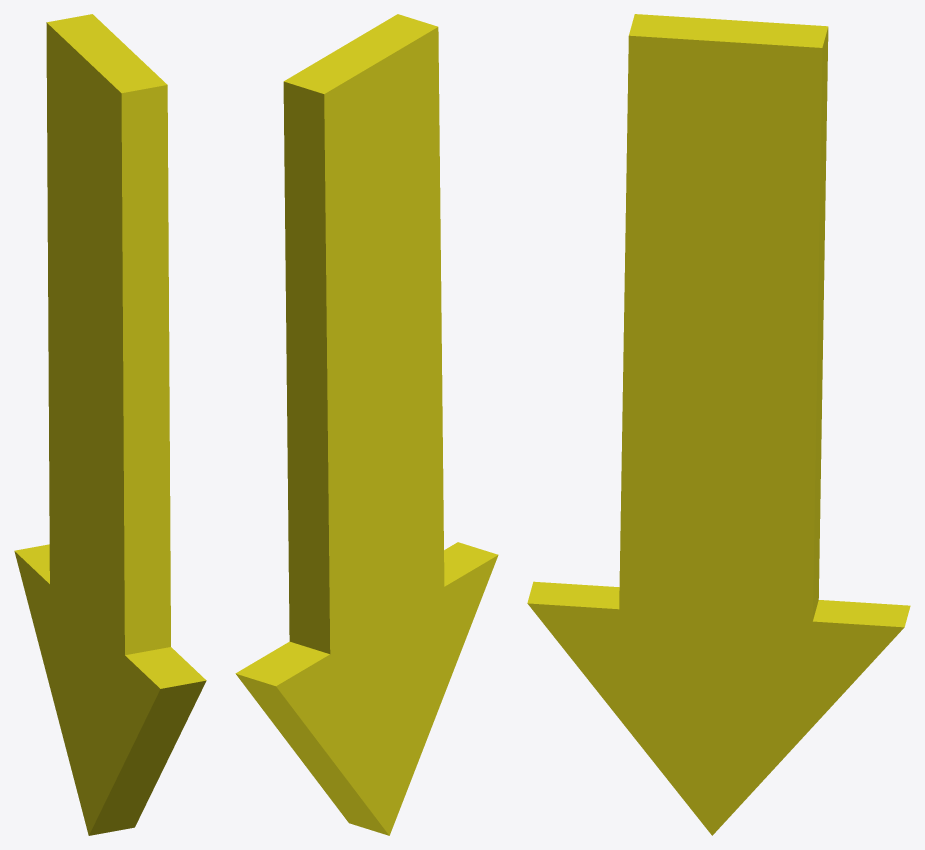
File: CS Arrow.fbx
3 views of the same model, side by side, from view 1: azimuth 30°, elevation 25°; view 2: azimuth 150°, elevation 25°; view 3: azimuth 270°, elevation 25° (orthographic). The views are drawn at different scales.
Visible parts, largest first — view 1: Plane; view 2: Plane; view 3: Plane.
Boxes of the visible parts, left/top/right/bottom form: Plane: left=14, top=14, right=206, bottom=835; Plane: left=235, top=14, right=498, bottom=835; Plane: left=527, top=14, right=910, bottom=835.
Size of the model in its own units: 97.95 by 901 by 393.
